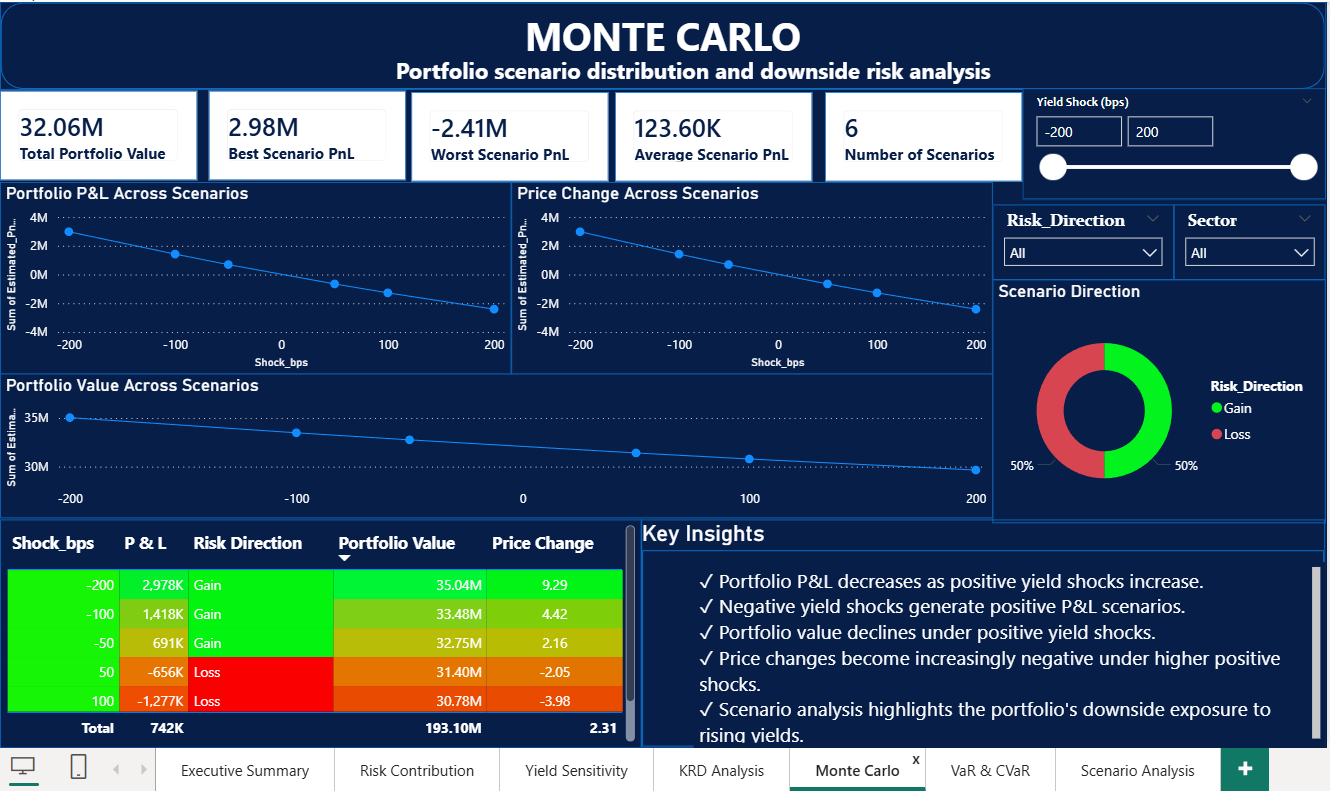

The dashboard page shown, as its layout file describes it:
{"tool":"powerbi","page":{"name":"Monte Carlo","canvas":[1280,720],"ordinal":4},"visuals":[{"type":"lineChart","title":"Portfolio Value Across Scenarios","fields":{"Category":["Scenario Summary.Shock_bps"],"Y":["Sum(Scenario Summary.Estimated_Portfolio_Value)"]},"box":[0,357.7,958.2,140.3],"z":0},{"type":"shape","title":" MONTE CARLO  ","box":[0,0,1279.7,85.1],"z":1000},{"type":"textbox","title":"Portfolio scenario distribution and downside risk analysis ","box":[313.6,50.4,710.8,31.5],"z":2000},{"type":"cardVisual","fields":{"Data":["Portfolio Summary.Total Portfolio Value"]},"box":[0,85.1,190.7,86.7],"z":3000},{"type":"cardVisual","fields":{"Data":["Portfolio Summary.Best Scenario PnL"]},"box":[201.7,85.1,190.7,86.7],"z":4000},{"type":"cardVisual","fields":{"Data":["Portfolio Summary.Worst Scenario PnL"]},"box":[397.1,86.7,190.7,86.7],"z":5000},{"type":"cardVisual","fields":{"Data":["Portfolio Summary.Average Scenario PnL"]},"box":[594.1,86.7,190.7,86.7],"z":6000},{"type":"cardVisual","fields":{"Data":["Portfolio Summary.Number of Scenarios"]},"box":[795.9,86.7,190.7,86.7],"z":7000},{"type":"lineChart","title":"Portfolio P&L Across Scenarios","fields":{"Category":["Scenario Summary.Shock_bps"],"Y":["Sum(Scenario Summary.Estimated_PnL_INR)"]},"box":[0,173.4,493.3,186],"z":8000},{"type":"lineChart","title":"Price Change Across Scenarios","fields":{"Category":["Scenario Summary.Shock_bps"],"Y":["Sum(Scenario Summary.Estimated_PnL_INR)"]},"box":[493.3,173.4,464.9,186],"z":9000},{"type":"donutChart","title":"Scenario Direction","fields":{"Category":["Scenario Summary.Risk_Direction"],"Y":["Portfolio Summary.Scenario Count"]},"box":[958.2,267.9,321.5,234.8],"z":10000},{"type":"tableEx","title":"Price Change Across Scenarios","fields":{"Values":["Scenario Summary.Shock_bps","Sum(Scenario Summary.Estimated_PnL_INR)","Scenario Summary.Risk_Direction","Sum(Scenario Summary.Estimated_Portfolio_Value)","Sum(Scenario Summary.Estimated_Price_Change_%)"]},"box":[0,499.6,619.4,220.6],"z":11000},{"type":"slicer","fields":{"Values":["Scenario Summary.Shock_bps"]},"box":[986.6,83.5,293.1,107.2],"z":12000},{"type":"slicer","fields":{"Values":["Scenario Summary.Risk_Direction"]},"box":[958.2,195.4,174.9,72.5],"z":13000},{"type":"slicer","fields":{"Values":["Sector Risk.Sector"]},"box":[1133.1,195.4,146.6,72.5],"z":14000},{"type":"shape","title":"Key Insights","box":[619.4,499.6,660.3,220.6],"z":15000},{"type":"textbox","box":[669.8,540.6,609.9,179.7],"z":16000}]}

Visuals, with their boxes on the page's 1280x720 design canvas (x1, y1, x2, y2). These are canvas units, not pixel positions in the 1330x791 screenshot, which may show the page scaled, cropped or inside an application window:
"Portfolio Value Across Scenarios" lineChart: locate(0, 358, 958, 498)
" MONTE CARLO  " shape: locate(0, 0, 1280, 85)
"Portfolio scenario distribution and downside risk analysis " textbox: locate(314, 50, 1024, 82)
cardVisual - Portfolio Summary.Total Portfolio Value: locate(0, 85, 191, 172)
cardVisual - Portfolio Summary.Best Scenario PnL: locate(202, 85, 392, 172)
cardVisual - Portfolio Summary.Worst Scenario PnL: locate(397, 87, 588, 173)
cardVisual - Portfolio Summary.Average Scenario PnL: locate(594, 87, 785, 173)
cardVisual - Portfolio Summary.Number of Scenarios: locate(796, 87, 987, 173)
"Portfolio P&L Across Scenarios" lineChart: locate(0, 173, 493, 359)
"Price Change Across Scenarios" lineChart: locate(493, 173, 958, 359)
"Scenario Direction" donutChart: locate(958, 268, 1280, 503)
"Price Change Across Scenarios" tableEx: locate(0, 500, 619, 720)
slicer - Scenario Summary.Shock_bps: locate(987, 84, 1280, 191)
slicer - Scenario Summary.Risk_Direction: locate(958, 195, 1133, 268)
slicer - Sector Risk.Sector: locate(1133, 195, 1280, 268)
"Key Insights" shape: locate(619, 500, 1280, 720)
textbox: locate(670, 541, 1280, 720)
